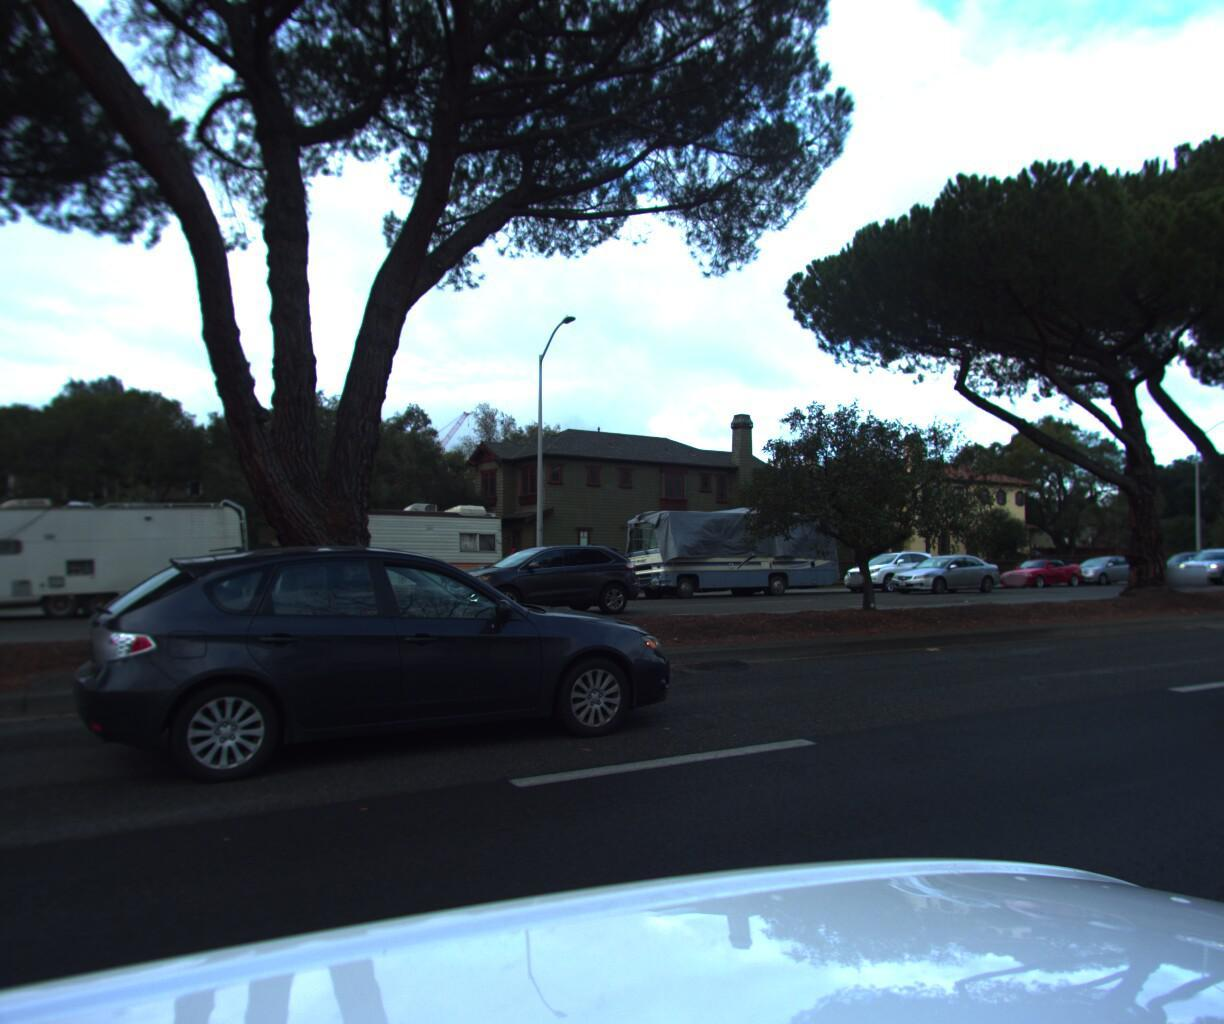car: (91, 542, 694, 801), (430, 538, 631, 615), (835, 543, 950, 591), (883, 551, 1005, 593), (1203, 547, 1224, 764), (988, 552, 1086, 585), (1142, 544, 1224, 581), (1052, 550, 1146, 581), (1169, 543, 1224, 581)
other_vehicle: (0, 478, 255, 628), (249, 489, 521, 616), (611, 492, 849, 599)
